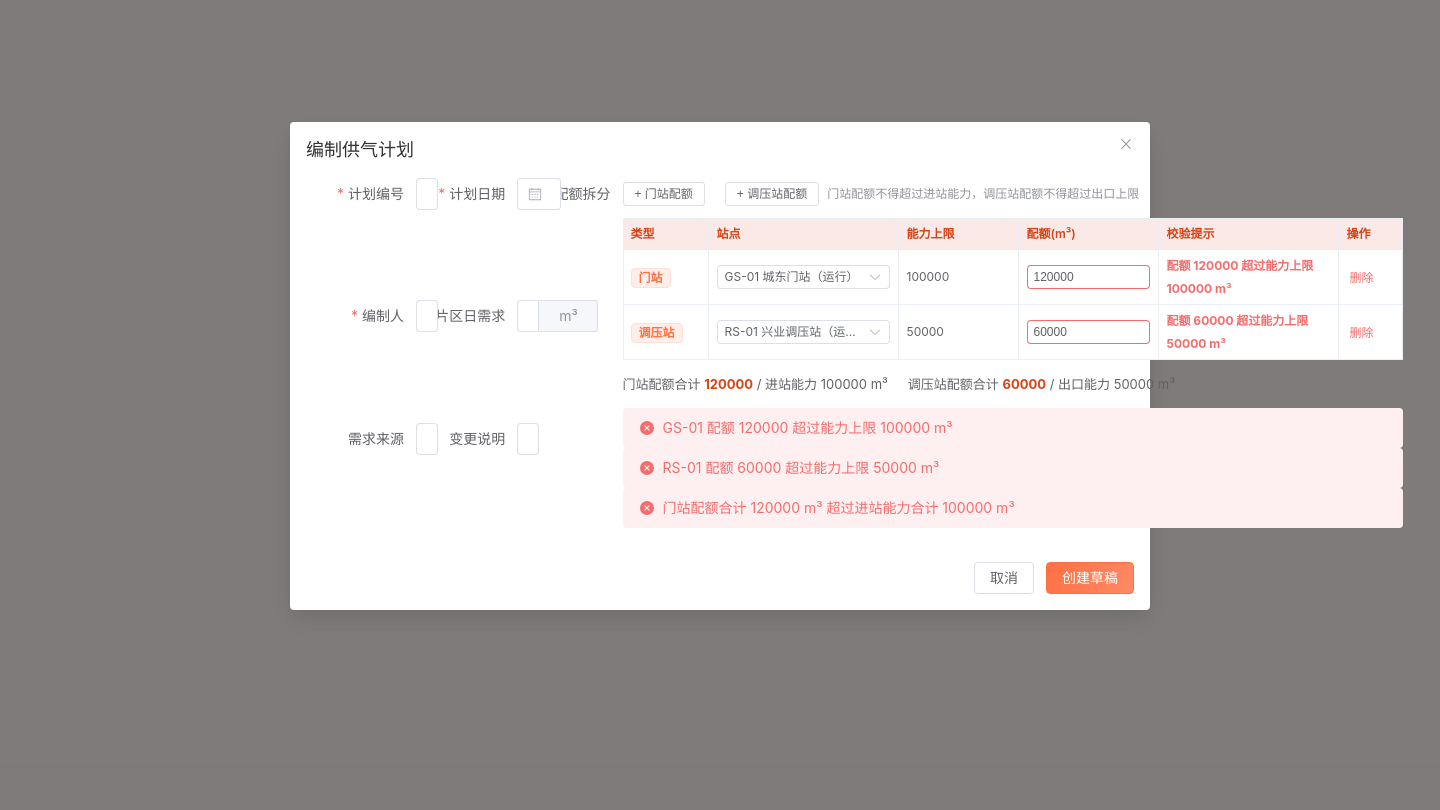
Test: 配额能力校验提示 › 门站超进站能力与调压站超出口上限即时标红并拦截提交
The width and height of the screenshot is (1440, 810).
Click the button "创建草稿": click(1090, 578) [1046,562,1134,594]
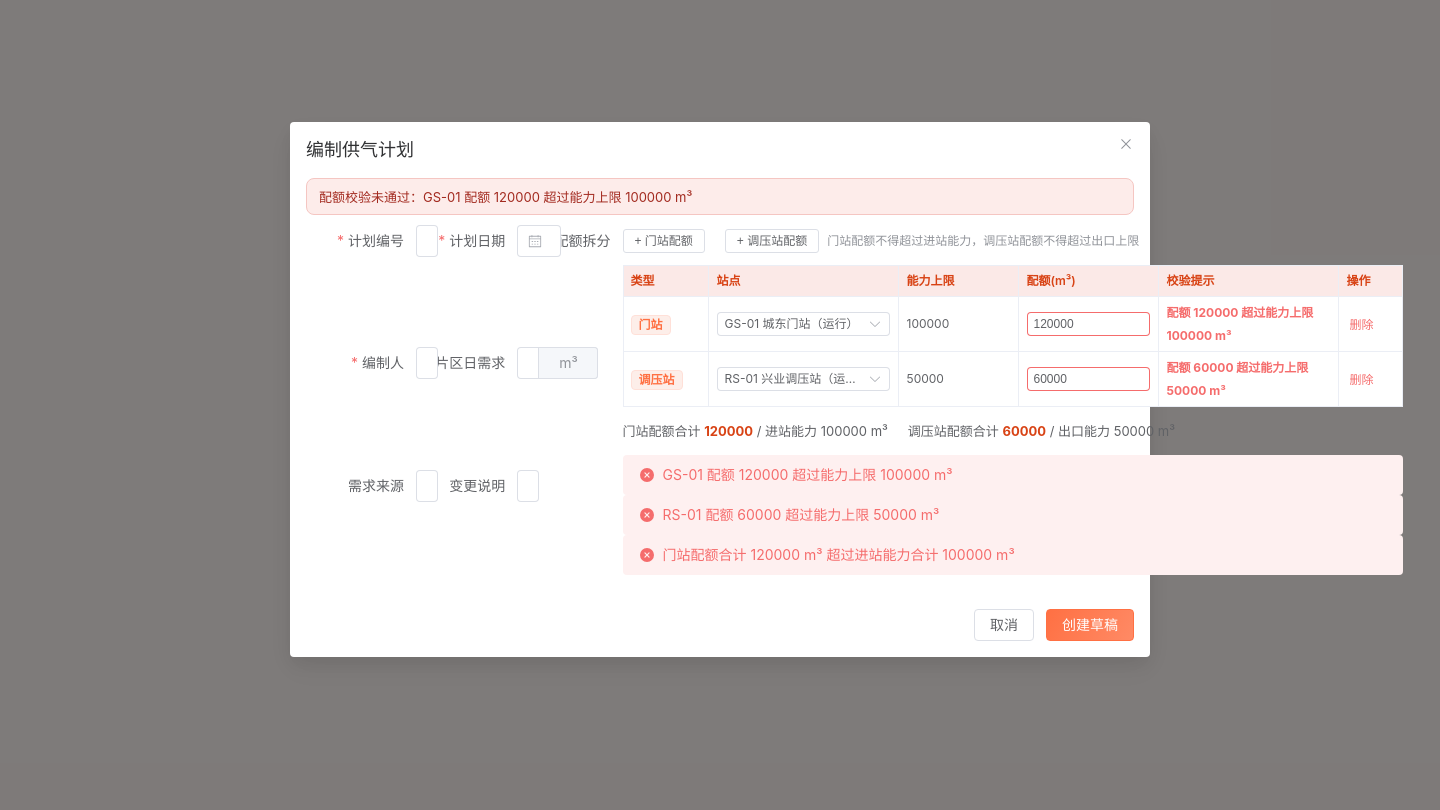
Expected: the text "配额校验未通过" is shown, [319,188,692,204]
